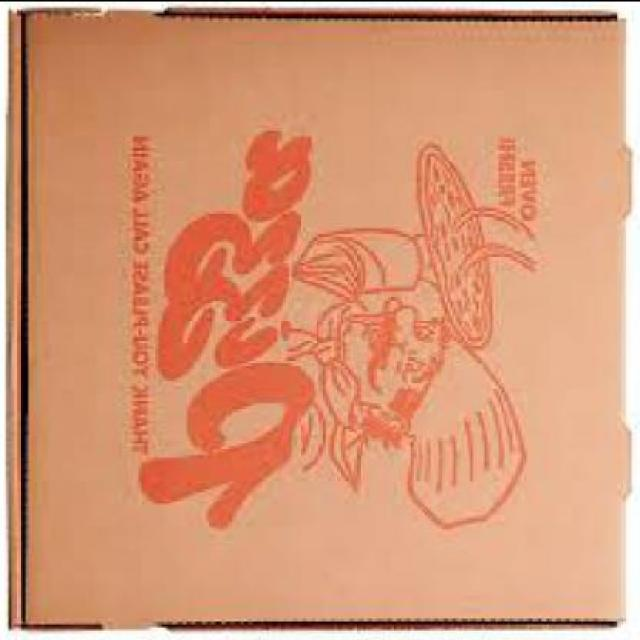CARDBOARD: (7, 0, 638, 635)
